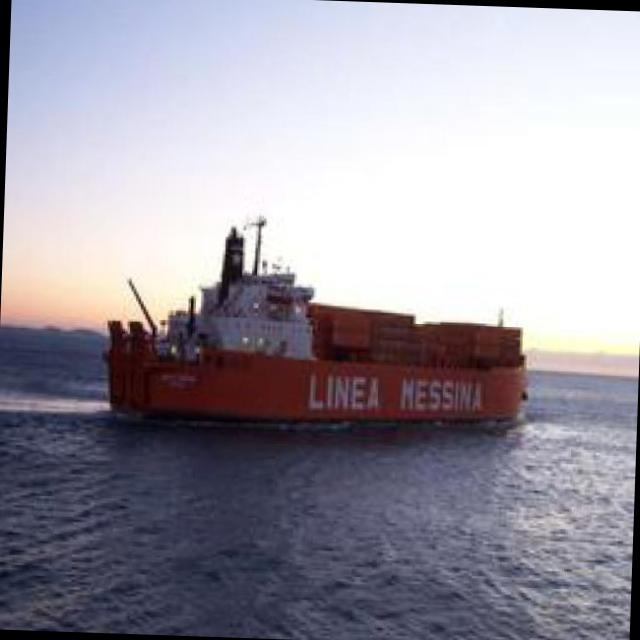boat: (80, 216, 560, 434)
